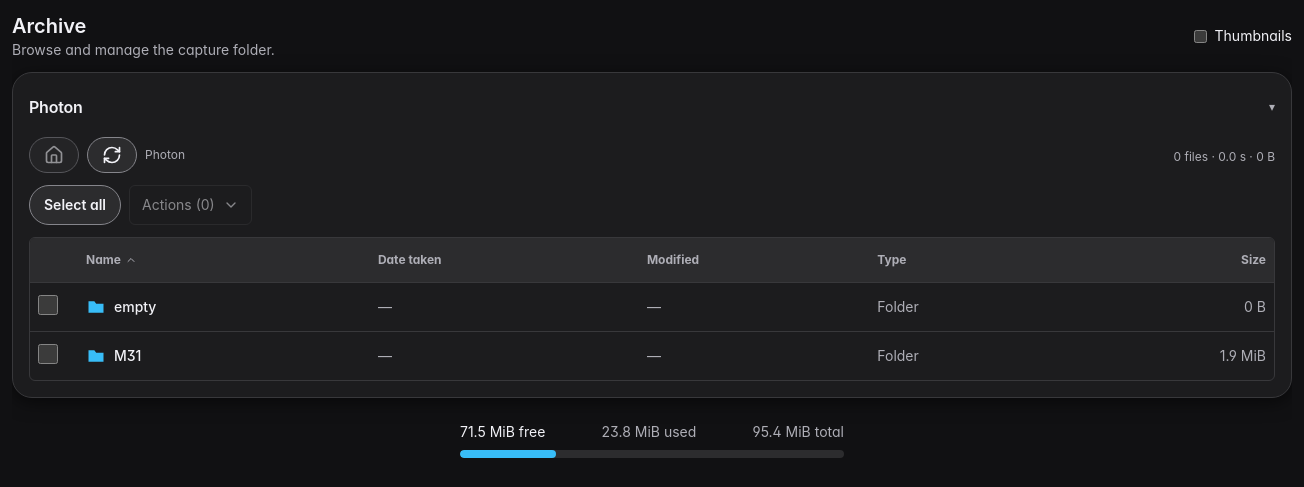
ArchiveTab › navigates to parent and capture home from the explorer toolbar
Click the button named "Open M31 folder contents" at (96, 356), box [78,332,370,380]
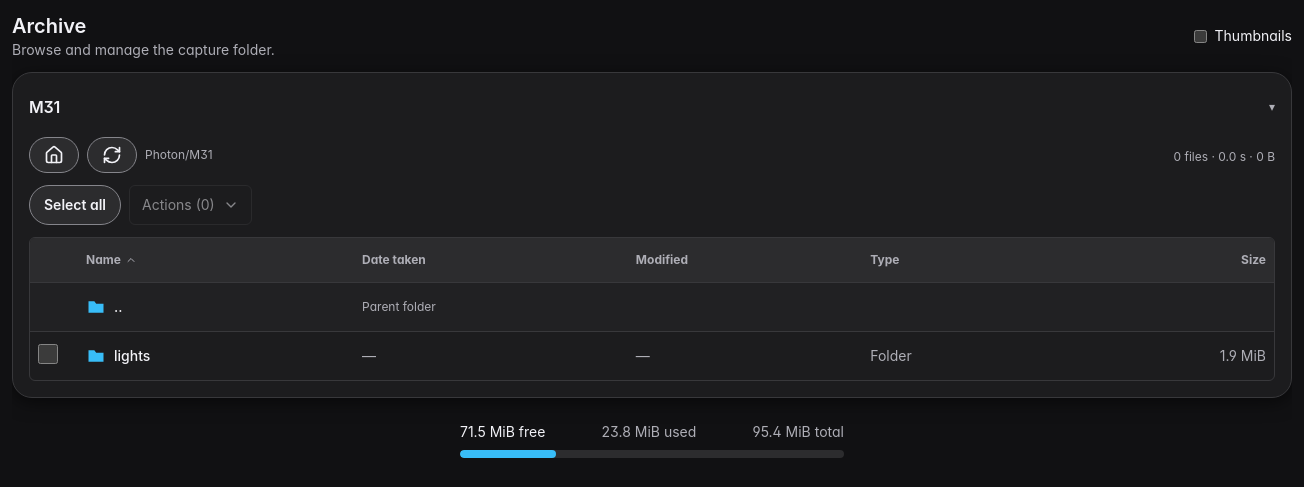
Click the button with aria-label "Open lights folder contents" at (132, 356), box [78,332,354,380]
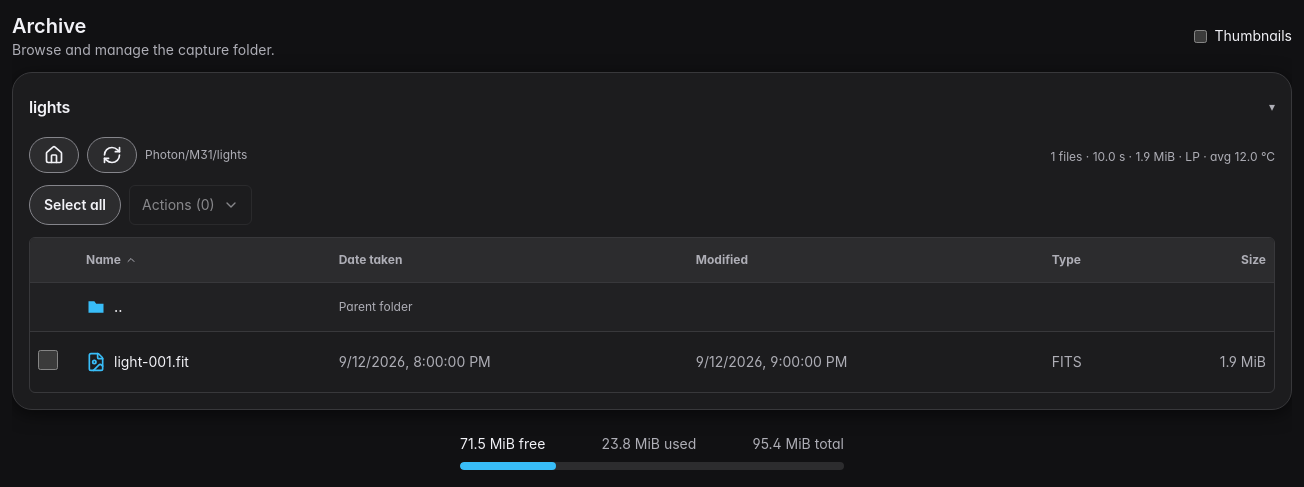
expect the button named "Open parent folder" reads "..": met
expect the text "light-001.fit" is shown: met, box [114,352,189,372]
expect the text "Photon/M31/lights" is shown: met, box [145,147,247,163]
Click the button named "Open parent folder" at (204, 307), box [78,283,331,331]
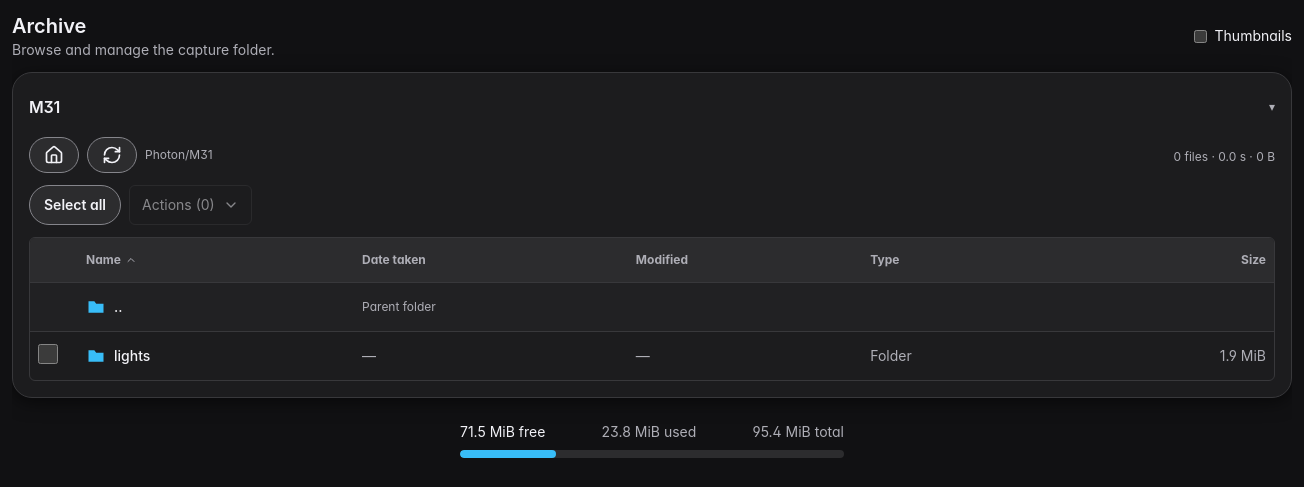
expect the text "Photon/M31" is shown: met, box [145,147,212,163]
Click the button named "Open capture home folder" at (54, 155), box [29,137,79,173]
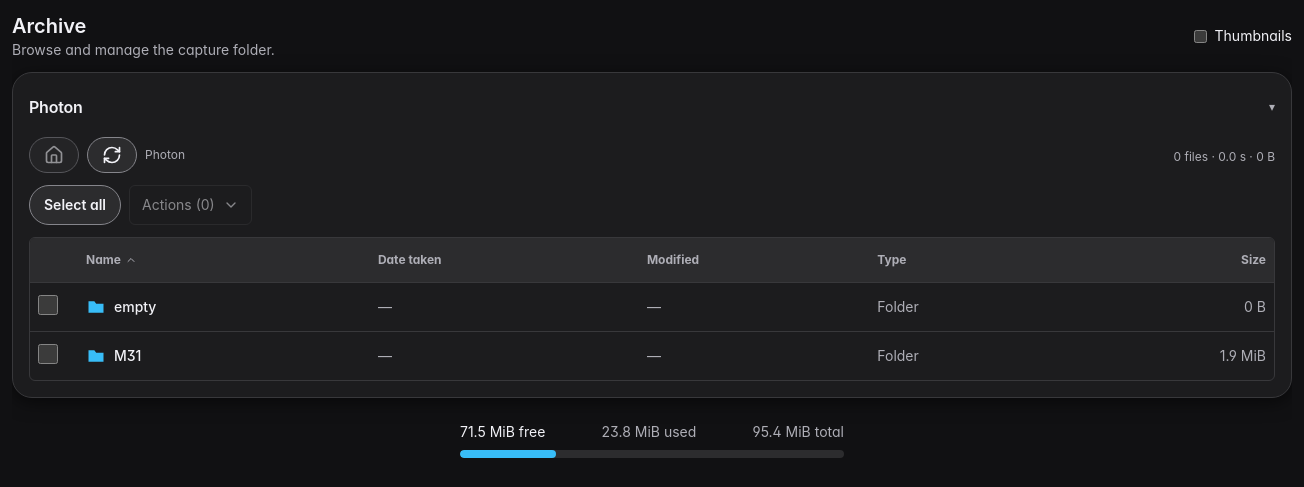
expect the 1st text "Photon" is shown: met, box [29,96,82,118]
expect the button named "Open capture home folder" is disabled: met, box [29,137,79,173]
